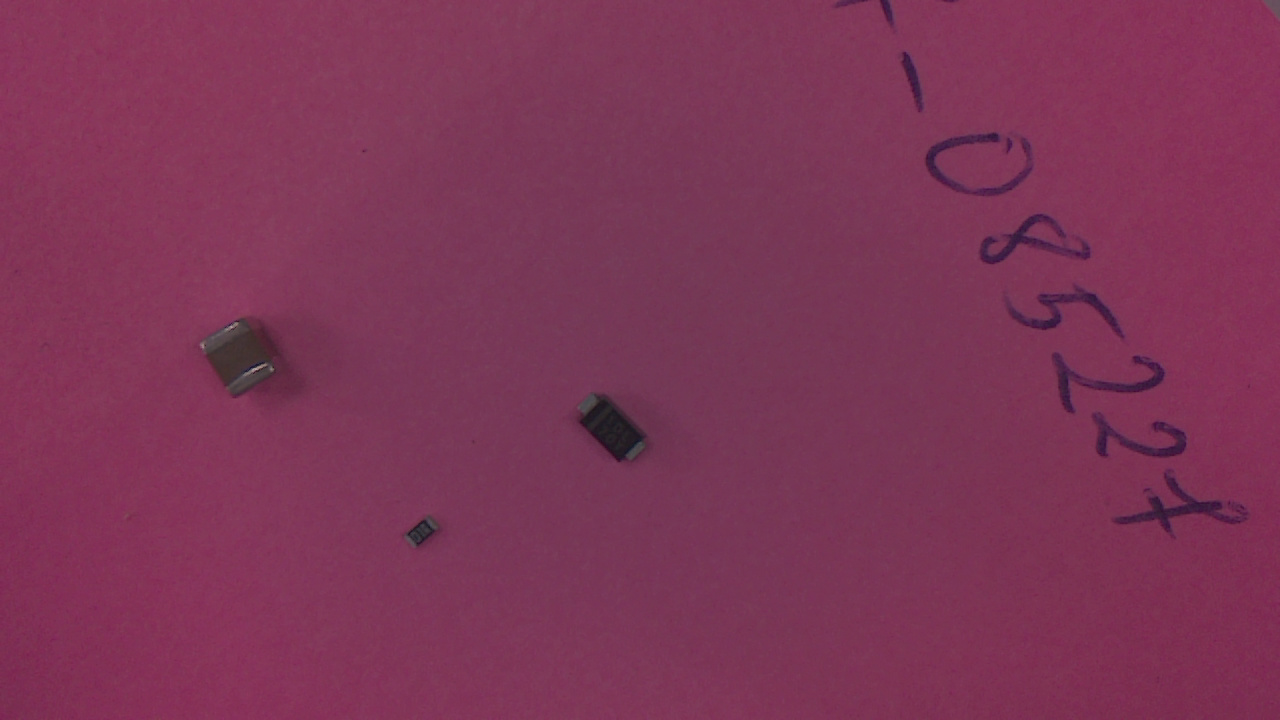Condensator: (205, 325, 287, 403)
Diode: (575, 397, 656, 472)
Resistor: (406, 516, 447, 554)
